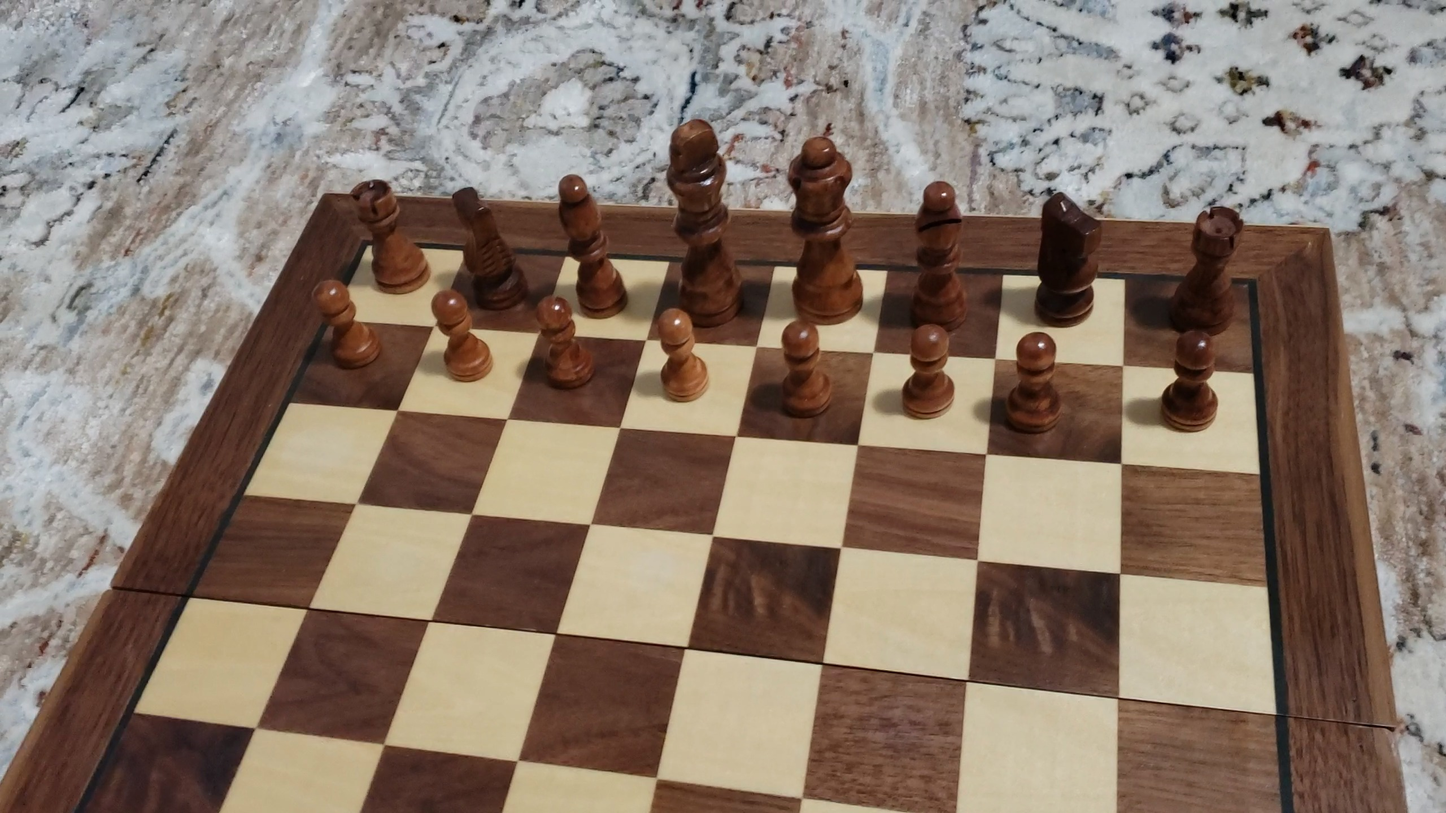black-bishop: (554, 171, 627, 318), (912, 177, 968, 333)
black-king: (663, 113, 745, 330)
black-knight: (451, 184, 529, 311), (1033, 187, 1103, 325)
black-pawn: (1158, 329, 1222, 434), (310, 278, 378, 372), (1004, 330, 1062, 436), (429, 287, 492, 383), (777, 318, 834, 420), (534, 294, 593, 391), (654, 304, 709, 404), (901, 321, 955, 421)
black-queen: (783, 132, 864, 326)
black-rook: (1165, 204, 1246, 334), (350, 178, 429, 294)
